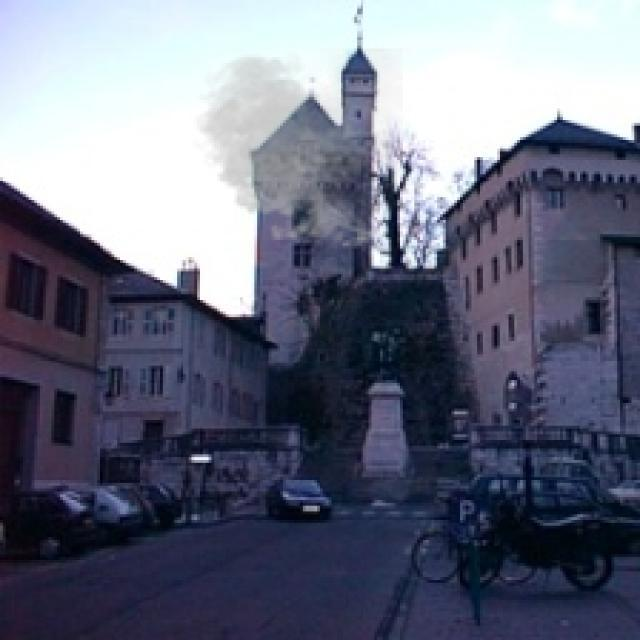Smoke: (188, 48, 402, 255)
